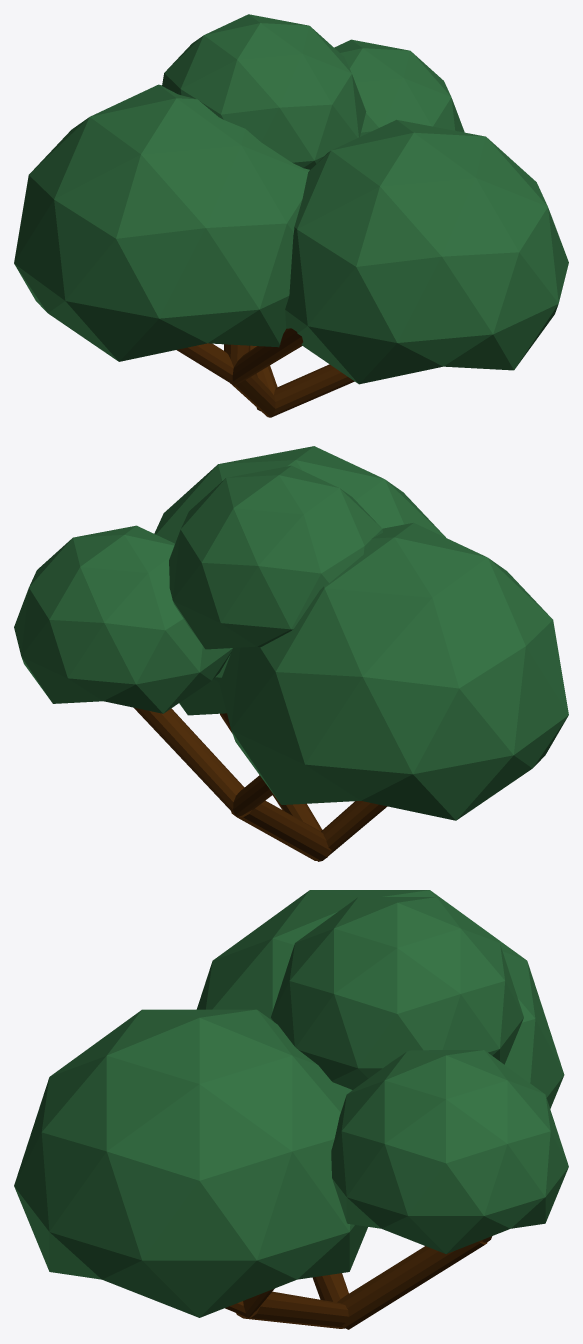
File: bush_variant2.fbx
3 views of the same model, one above another, from view 1: azimuth 30°, elevation 25°; view 2: azimuth 150°, elevation 25°; view 3: azimuth 270°, elevation 25° (orthographic). The views are drawn at different scales.
Visible parts, largest first — view 1: Icosphere.006, Icosphere.007, Icosphere.009, Icosphere.008, Vert; view 2: Icosphere.006, Icosphere.008, Icosphere.009, Vert, Icosphere.007; view 3: Icosphere.007, Icosphere.008, Icosphere.009, Icosphere.006, Vert.
Boxes of the visible parts, box(x1,y1,x2,y2) form: Icosphere.006: box(14, 84, 309, 361); Icosphere.007: box(285, 119, 568, 384); Icosphere.009: box(162, 14, 366, 169); Icosphere.008: box(334, 39, 464, 136); Vert: box(177, 328, 354, 417); Icosphere.006: box(219, 522, 568, 820); Icosphere.008: box(14, 525, 232, 713); Icosphere.009: box(169, 465, 382, 649); Vert: box(134, 707, 387, 861); Icosphere.007: box(154, 446, 445, 715); Icosphere.007: box(14, 1009, 367, 1317); Icosphere.008: box(331, 1050, 568, 1253); Icosphere.009: box(271, 897, 523, 1089); Icosphere.006: box(196, 890, 564, 1108); Vert: box(225, 1236, 492, 1329).
Bounding box in the file's own units: 75.82 × 61.05 × 70.44.
